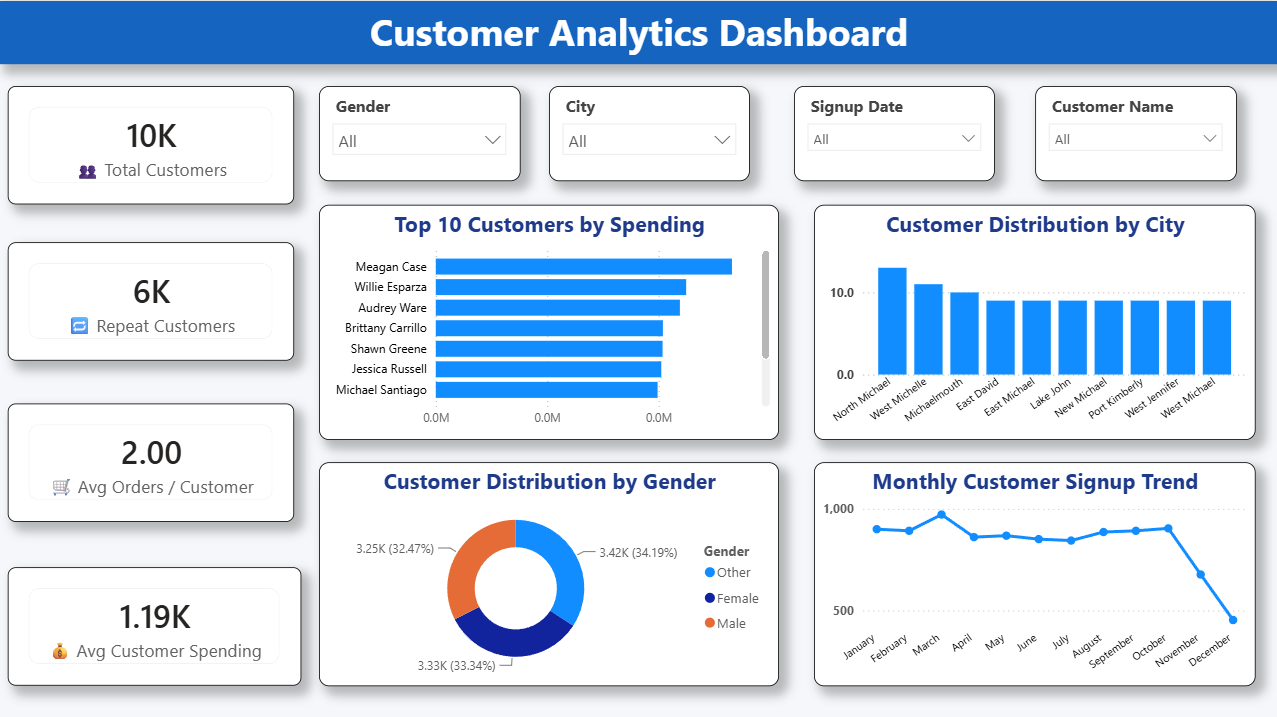

This screenshot's page, from the dashboard's own definition file:
{"tool":"powerbi","page":{"name":"Customer Analytics","canvas":[1280,720],"ordinal":1},"visuals":[{"type":"textbox","box":[0,0,1280.3,63.6],"z":0},{"type":"cardVisual","fields":{"Data":["users.Repeat Customers"]},"box":[8.8,241.2,286.2,118.8],"z":1000},{"type":"cardVisual","fields":{"Data":["users.Avg Customer Spending"]},"box":[8.8,566.2,293.8,118.8],"z":2000},{"type":"cardVisual","fields":{"Data":["events.Total Customers"]},"box":[8.8,85,286.2,118.8],"z":3000},{"type":"cardVisual","fields":{"Data":["events.Avg Orders per Customer"]},"box":[8.8,402.5,286.2,118.8],"z":4000},{"type":"slicer","fields":{"Values":["users.name"]},"box":[1036.2,85,201.2,95],"z":5000},{"type":"clusteredBarChart","title":"Top 10 Customers by Spending","fields":{"Category":["users.name"],"Y":["users.Customer Spending"]},"box":[320,203.8,460,235],"z":6000},{"type":"clusteredColumnChart","title":"Customer Distribution by City","fields":{"Category":["users.city"],"Y":["events.Total Customers"]},"box":[815,203.8,441.2,235],"z":7000},{"type":"lineChart","title":"Monthly Customer Signup Trend","fields":{"Category":["users.signup_date.Variation.Date Hierarchy.Month"],"Y":["events.Total Customers"]},"box":[815,461.2,441.2,223.8],"z":8000},{"type":"donutChart","title":"Customer Distribution by Gender","fields":{"Category":["users.gender"],"Y":["events.Total Customers"]},"box":[320,461.2,460,223.8],"z":9000},{"type":"slicer","fields":{"Values":["users.gender"]},"box":[320,85,201.2,95],"z":10000},{"type":"slicer","fields":{"Values":["users.signup_date"]},"box":[794.9,84.9,200.9,94.8],"z":11000},{"type":"slicer","fields":{"Values":["users.city"]},"box":[550.3,84.9,200.9,94.8],"z":12000}]}

Visuals, with their boxes in screenshot pixels (x1, y1, x2, y2), scaled from the page's 1280x720 canvas onto the 1277x717 screenshot:
textbox: 0:0:1276:63
cardVisual - users.Repeat Customers: 9:240:294:358
cardVisual - users.Avg Customer Spending: 9:564:302:682
cardVisual - events.Total Customers: 9:85:294:203
cardVisual - events.Avg Orders per Customer: 9:401:294:519
slicer - users.name: 1034:85:1234:179
"Top 10 Customers by Spending" clusteredBarChart: 319:203:778:437
"Customer Distribution by City" clusteredColumnChart: 813:203:1253:437
"Monthly Customer Signup Trend" lineChart: 813:459:1253:682
"Customer Distribution by Gender" donutChart: 319:459:778:682
slicer - users.gender: 319:85:520:179
slicer - users.signup_date: 793:85:993:179
slicer - users.city: 549:85:749:179
